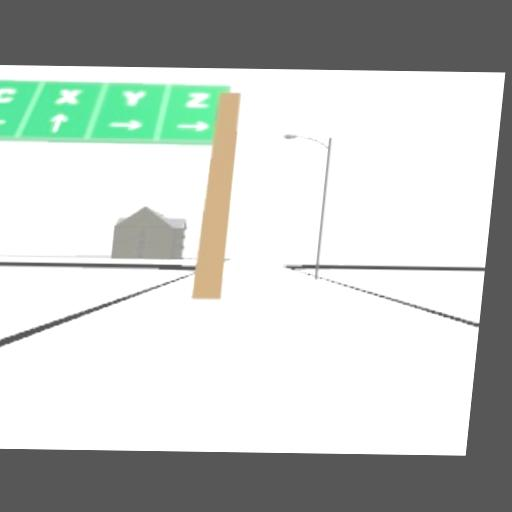C: (0, 85, 16, 101)
Left: (0, 115, 8, 125)
Right: (107, 118, 143, 128), (176, 119, 208, 129)
Straight: (48, 112, 67, 132)
X: (55, 86, 80, 102)
Y: (122, 88, 147, 104)
Z: (184, 89, 210, 105)
